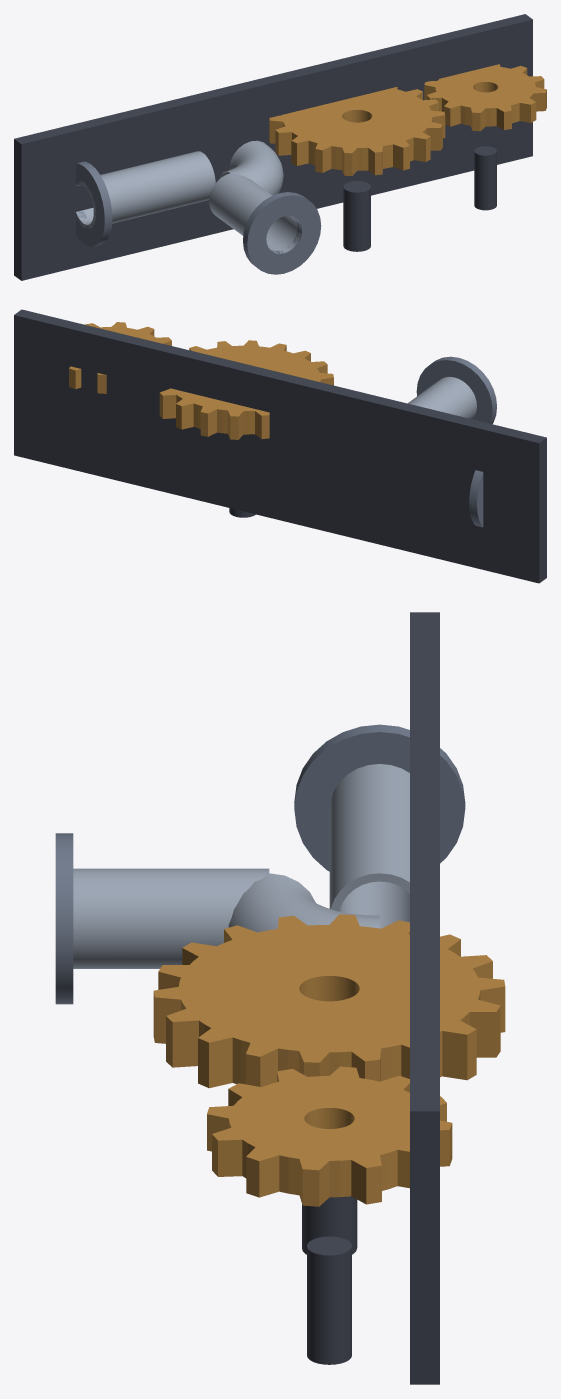
File: gear-pump.obj
The picture shows the model from 3 angles, top to bottom: view 1: azimuth 30°, elevation 25°; view 2: azimuth 150°, elevation 25°; view 3: azimuth 270°, elevation 25°; orthographic projection. The views are drawn at different scales.
Parts seen in each view (by area): view 1: base-plate, gear-drive, gear-driven, pipe-inlet, flange-outlet, pipe-riser, flange-inlet, pipe-elbow, shaft-drive, shaft-driven; view 2: base-plate, gear-drive, flange-outlet, pipe-riser, gear-driven, flange-inlet; view 3: gear-drive, gear-driven, base-plate, pipe-riser, pipe-inlet, flange-inlet, shaft-driven, pipe-elbow, flange-outlet, shaft-drive.
Part boxes in pixels (x1,y1,x2,y2): base-plate: (14,14,532,280); gear-drive: (269,87,445,175); gear-driven: (424,64,546,131); pipe-inlet: (76,151,215,228); flange-outlet: (243,192,321,274); pipe-riser: (209,173,301,253); flange-inlet: (76,161,112,246); pipe-elbow: (219,140,283,195); shaft-drive: (343,181,370,251); shaft-driven: (474,146,496,210); base-plate: (14,309,546,583); gear-drive: (159,340,333,439); flange-outlet: (416,356,496,424); pipe-riser: (407,376,476,418); gear-driven: (69,322,171,393); flange-inlet: (469,470,483,527); gear-drive: (153,914,505,1088); gear-driven: (207,1066,452,1206); base-plate: (410,612,439,1384); pipe-riser: (73,868,269,968); pipe-inlet: (329,764,409,928); flange-inlet: (294,724,465,871); shaft-driven: (307,1236,351,1364); pipe-elbow: (228,873,379,932); flange-outlet: (55,833,73,1004); shaft-drive: (302,1196,357,1254).
Bounding box in the file's own units: 2.35 × 0.72 × 0.8949.
